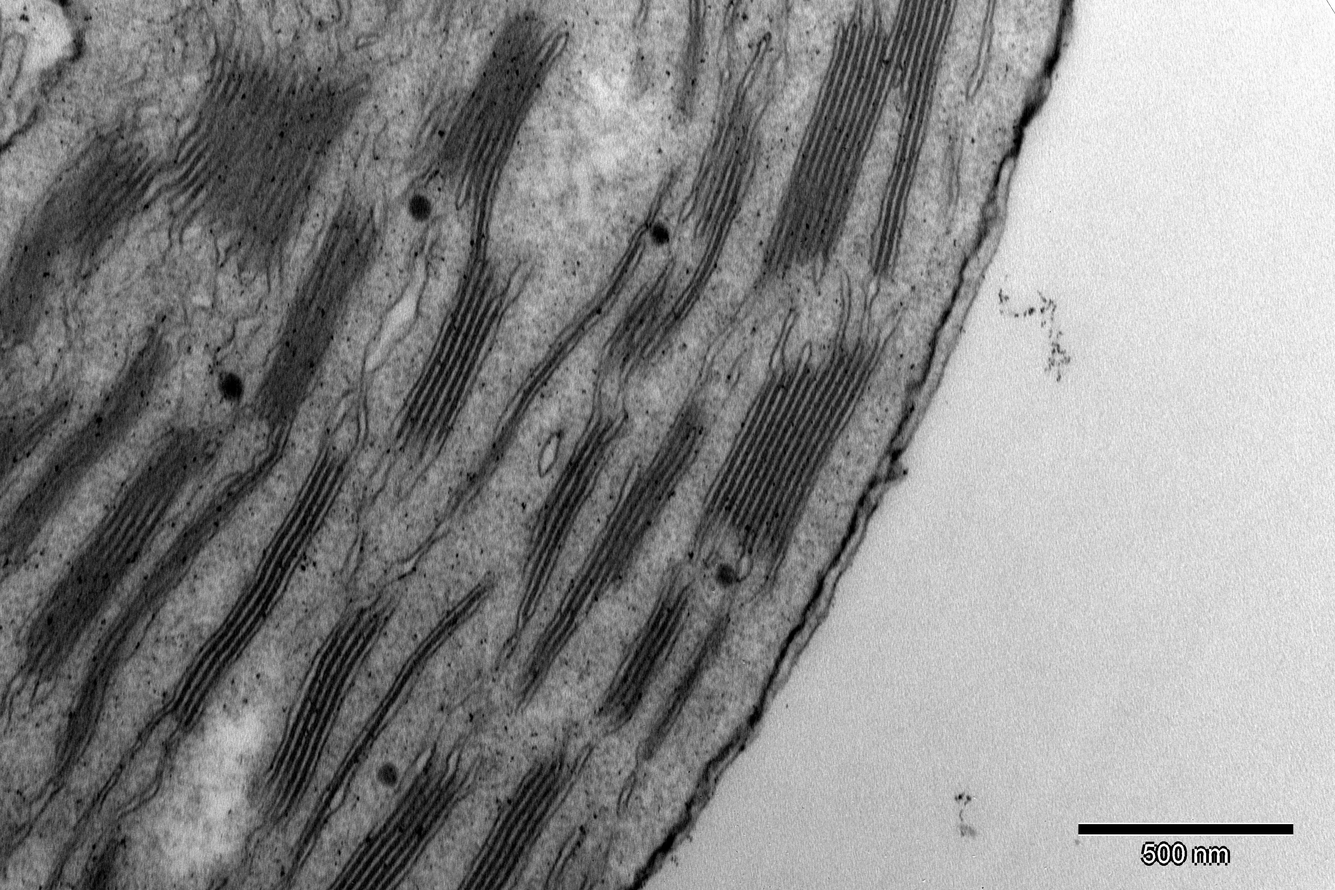granum: (507, 385, 721, 707), (52, 468, 268, 783), (156, 438, 362, 736), (12, 414, 227, 686), (756, 0, 962, 283), (164, 14, 375, 273), (0, 322, 182, 590), (691, 333, 889, 573), (242, 580, 403, 837), (0, 112, 166, 347), (239, 183, 391, 429), (400, 10, 573, 219), (383, 248, 514, 466), (515, 402, 637, 591), (323, 745, 481, 889), (453, 750, 589, 890), (590, 564, 702, 728), (673, 82, 773, 253), (597, 276, 692, 381), (0, 400, 47, 502), (71, 821, 130, 890)
